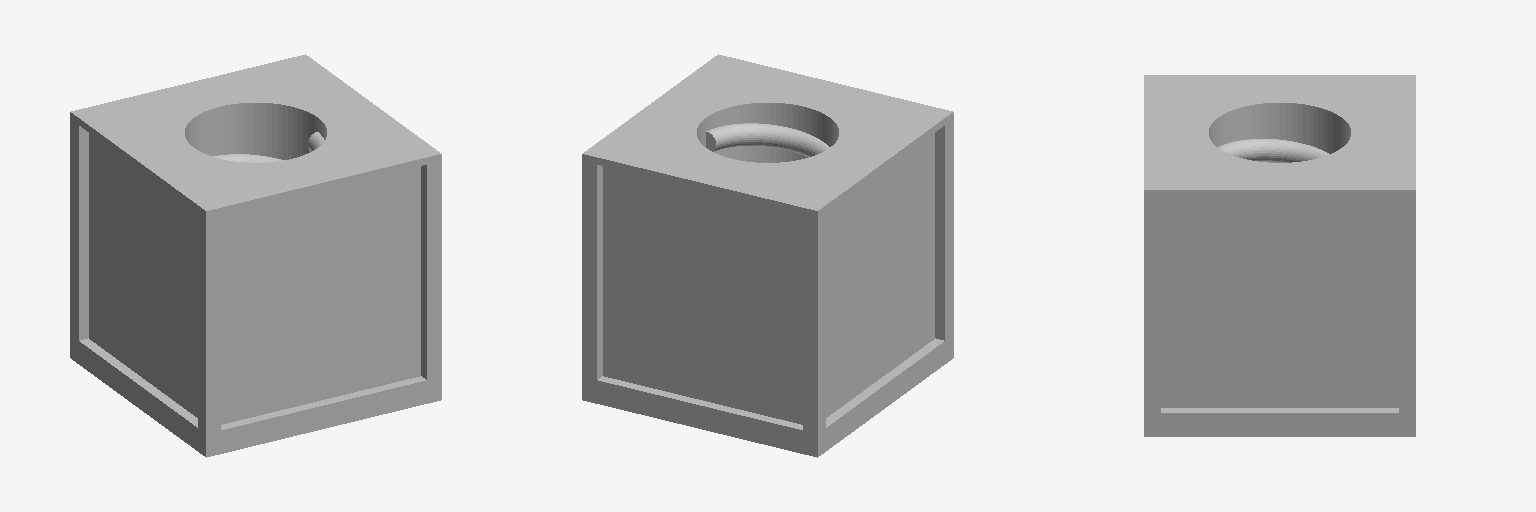
The model's file is chair_nut1.obj.
3 views of the same model, side by side, from view 1: azimuth 30°, elevation 25°; view 2: azimuth 150°, elevation 25°; view 3: azimuth 270°, elevation 25° (orthographic).
Parts seen in each view (by area): view 1: chair_nut1_v8, chair_nut1_v8.003, chair_nut1_v8.004; view 2: chair_nut1_v8, chair_nut1_v8.001, chair_nut1_v8.004; view 3: chair_nut1_v8.002, chair_nut1_v8.
Part boxes in pixels (left/top/right/bottom): chair_nut1_v8: left=70, top=54, right=441, bottom=457; chair_nut1_v8.003: left=221, top=165, right=426, bottom=429; chair_nut1_v8.004: left=79, top=126, right=197, bottom=427; chair_nut1_v8: left=582, top=54, right=953, bottom=457; chair_nut1_v8.001: left=597, top=165, right=802, bottom=429; chair_nut1_v8.004: left=826, top=126, right=944, bottom=427; chair_nut1_v8.002: left=1161, top=197, right=1398, bottom=412; chair_nut1_v8: left=1144, top=75, right=1415, bottom=436.
Bounding box in the file's own units: 0.03 × 0.03 × 0.03.